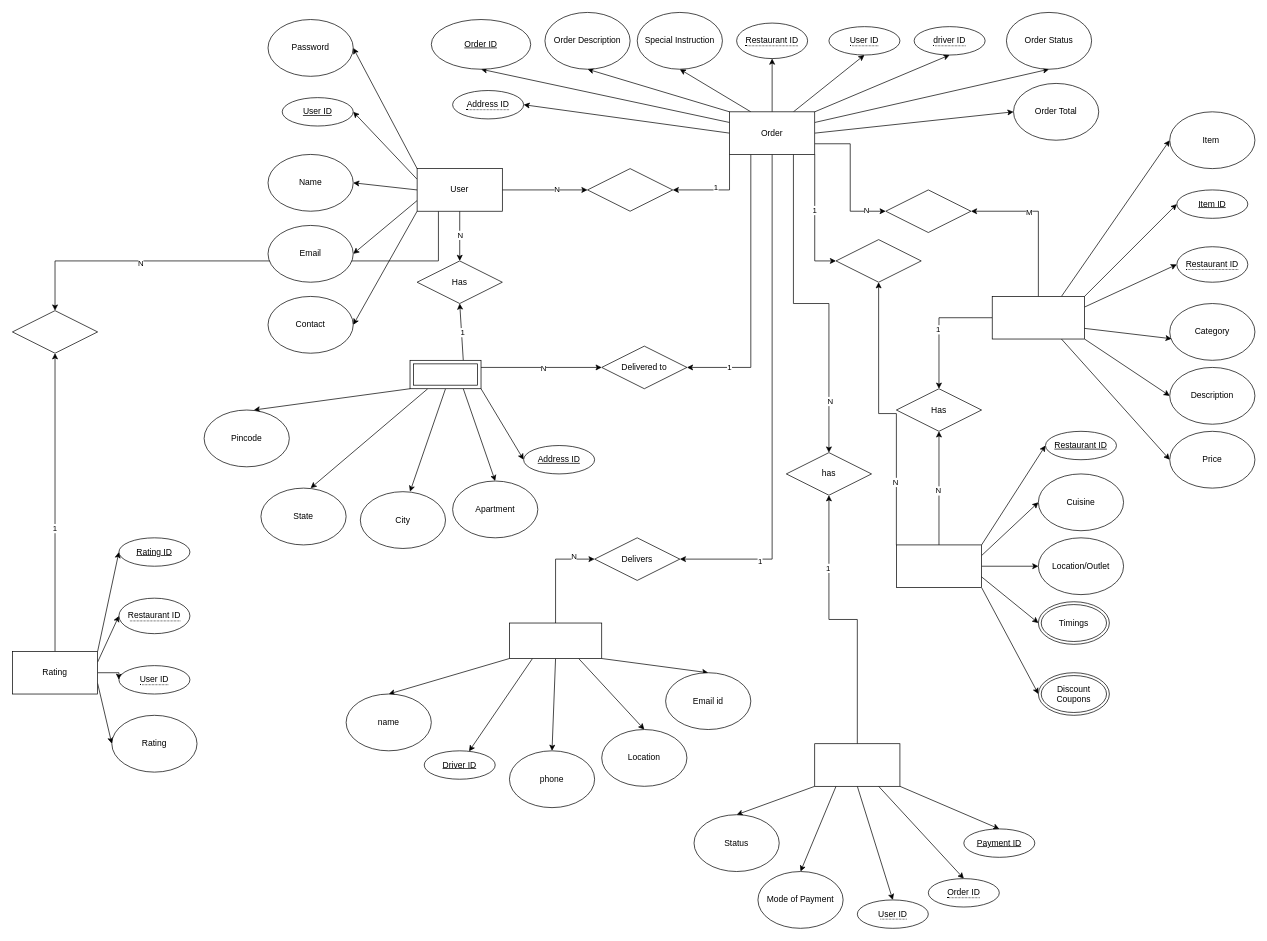
The diagram is 1267 pixels wide and 941 high, and some of its shapes have lost their labels. The centre of each missing label's shape, as x and y in pixels:
Address: point (445, 374)
Contains: point (928, 211)
Delivery man: point (555, 640)
Gives: point (55, 331)
Menu: point (1038, 317)
Payment: point (857, 764)
Placed at: point (878, 260)
Places: point (630, 189)
Restaurant: point (939, 566)
